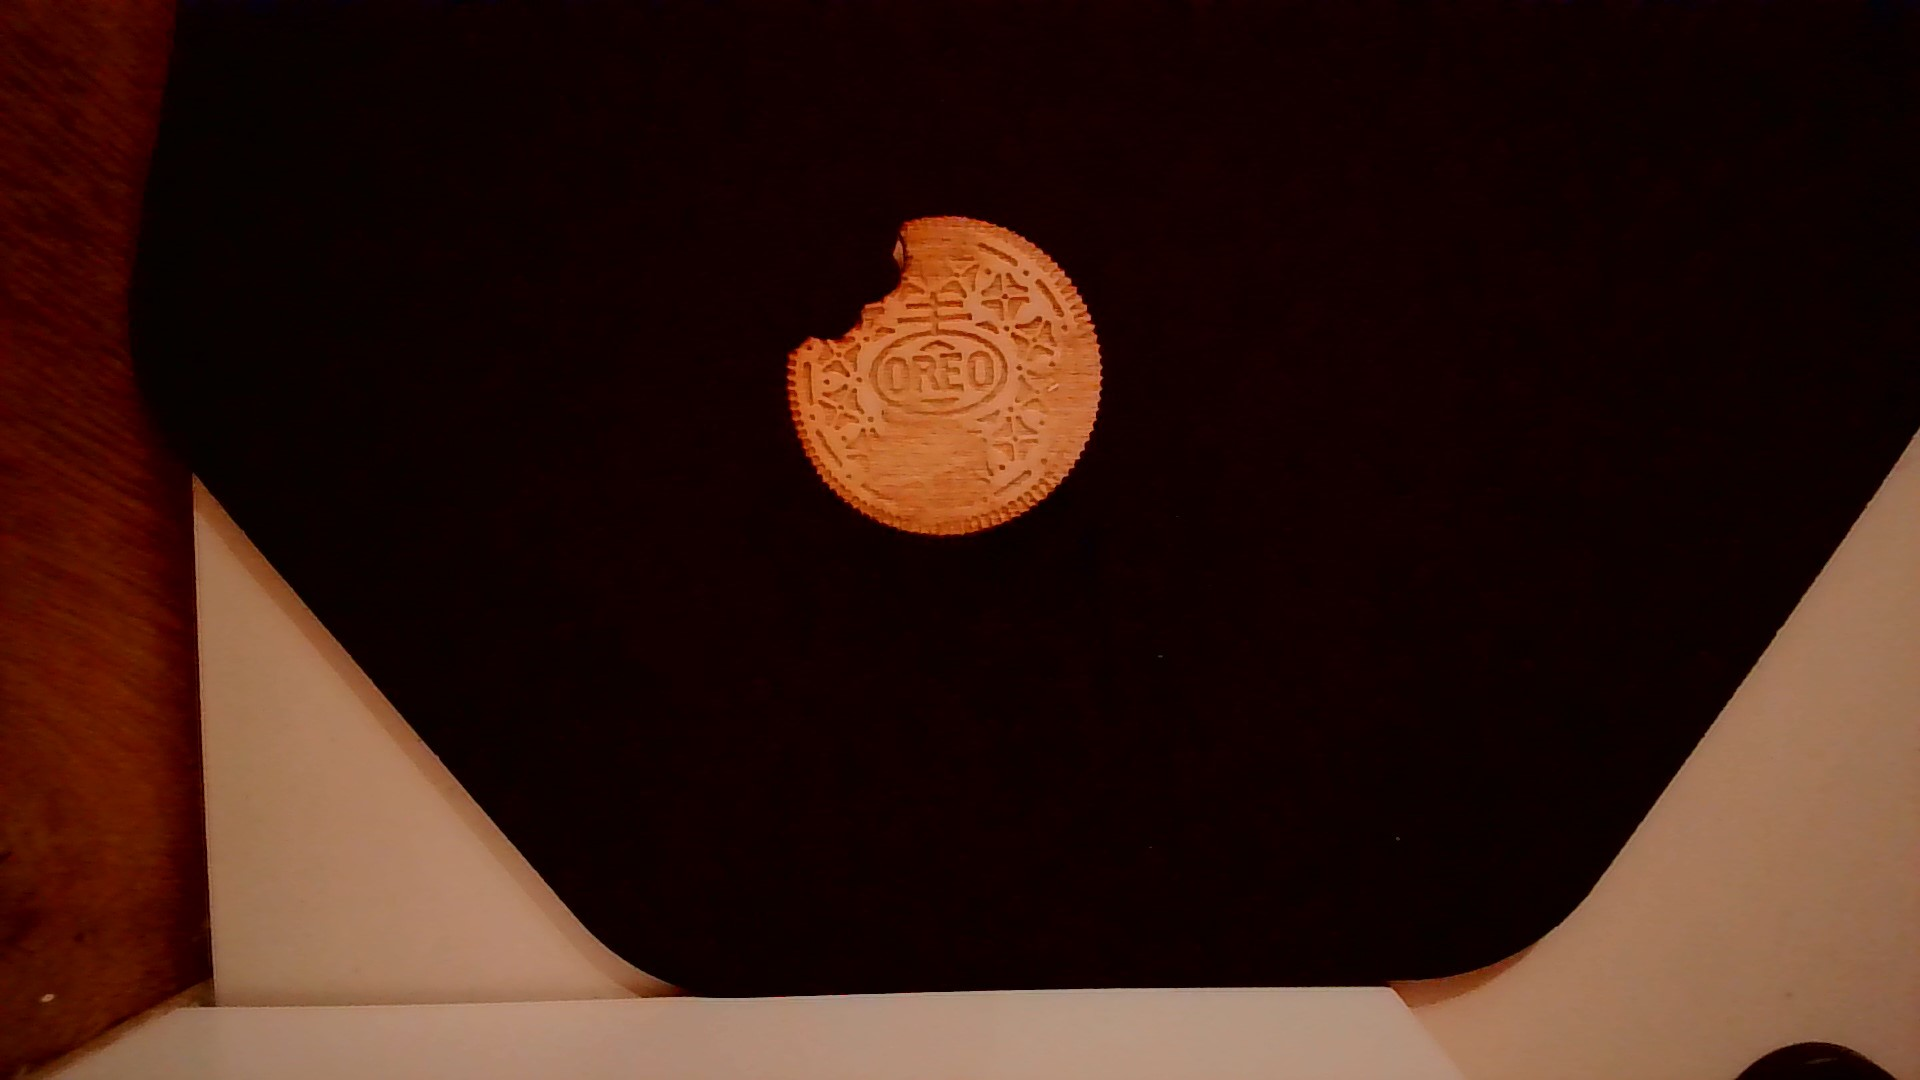Effacé: (853, 417, 982, 518), (1040, 327, 1097, 450), (911, 218, 982, 305)
Mangé: (786, 215, 923, 367)
Oréo: (782, 206, 1109, 549)
